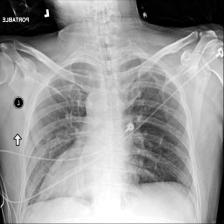normal: (18, 61, 200, 202)
